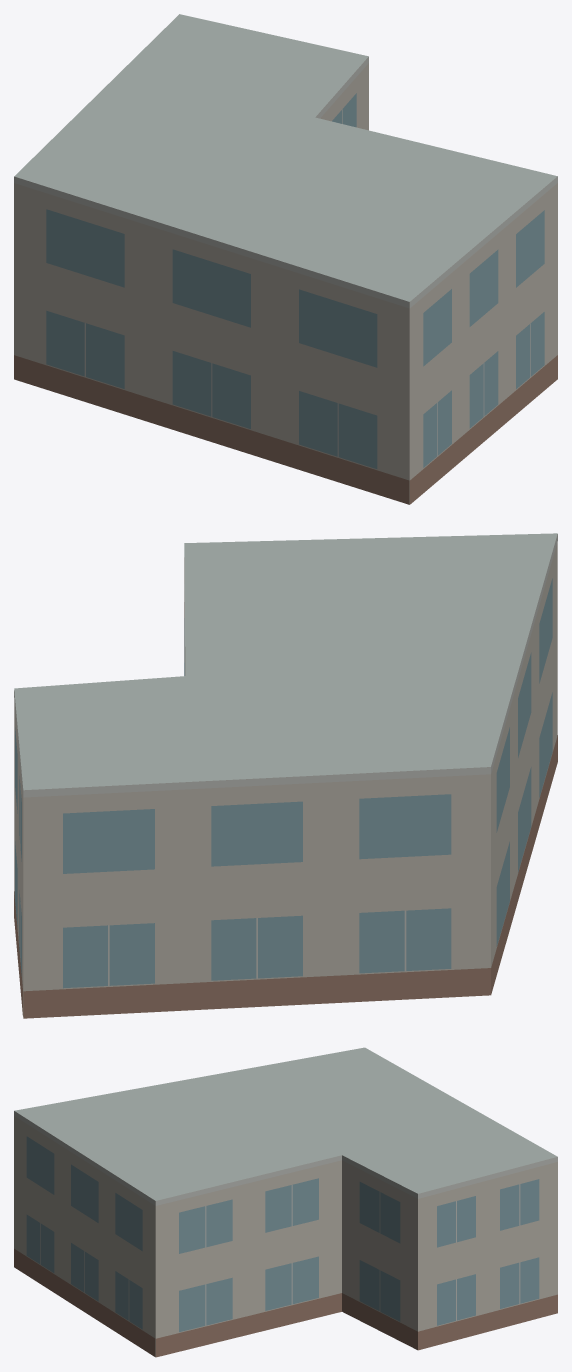
File: survey-upis-32764892.glb
3 renders of one model, top to bottom at view 1: azimuth 30°, elevation 25°; view 2: azimuth 150°, elevation 25°; view 3: azimuth 270°, elevation 25°, orthographic. The views are drawn at different scales.
Visible parts, largest first — view 1: survey-upis-32764892.tmp; view 2: survey-upis-32764892.tmp; view 3: survey-upis-32764892.tmp.
Part boxes in pixels (x1,y1,x2,y2): survey-upis-32764892.tmp: [14, 14, 557, 504]; survey-upis-32764892.tmp: [14, 533, 557, 1018]; survey-upis-32764892.tmp: [14, 1047, 557, 1357].
Bounding box in the file's own units: 16 × 7.6 × 23.95.
